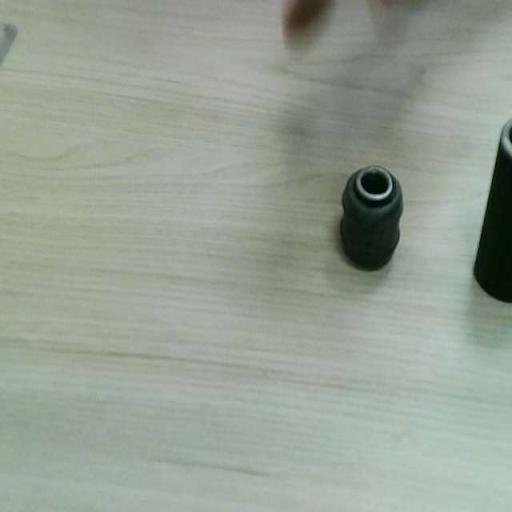peca: (474, 119, 511, 302), (340, 165, 402, 269)
